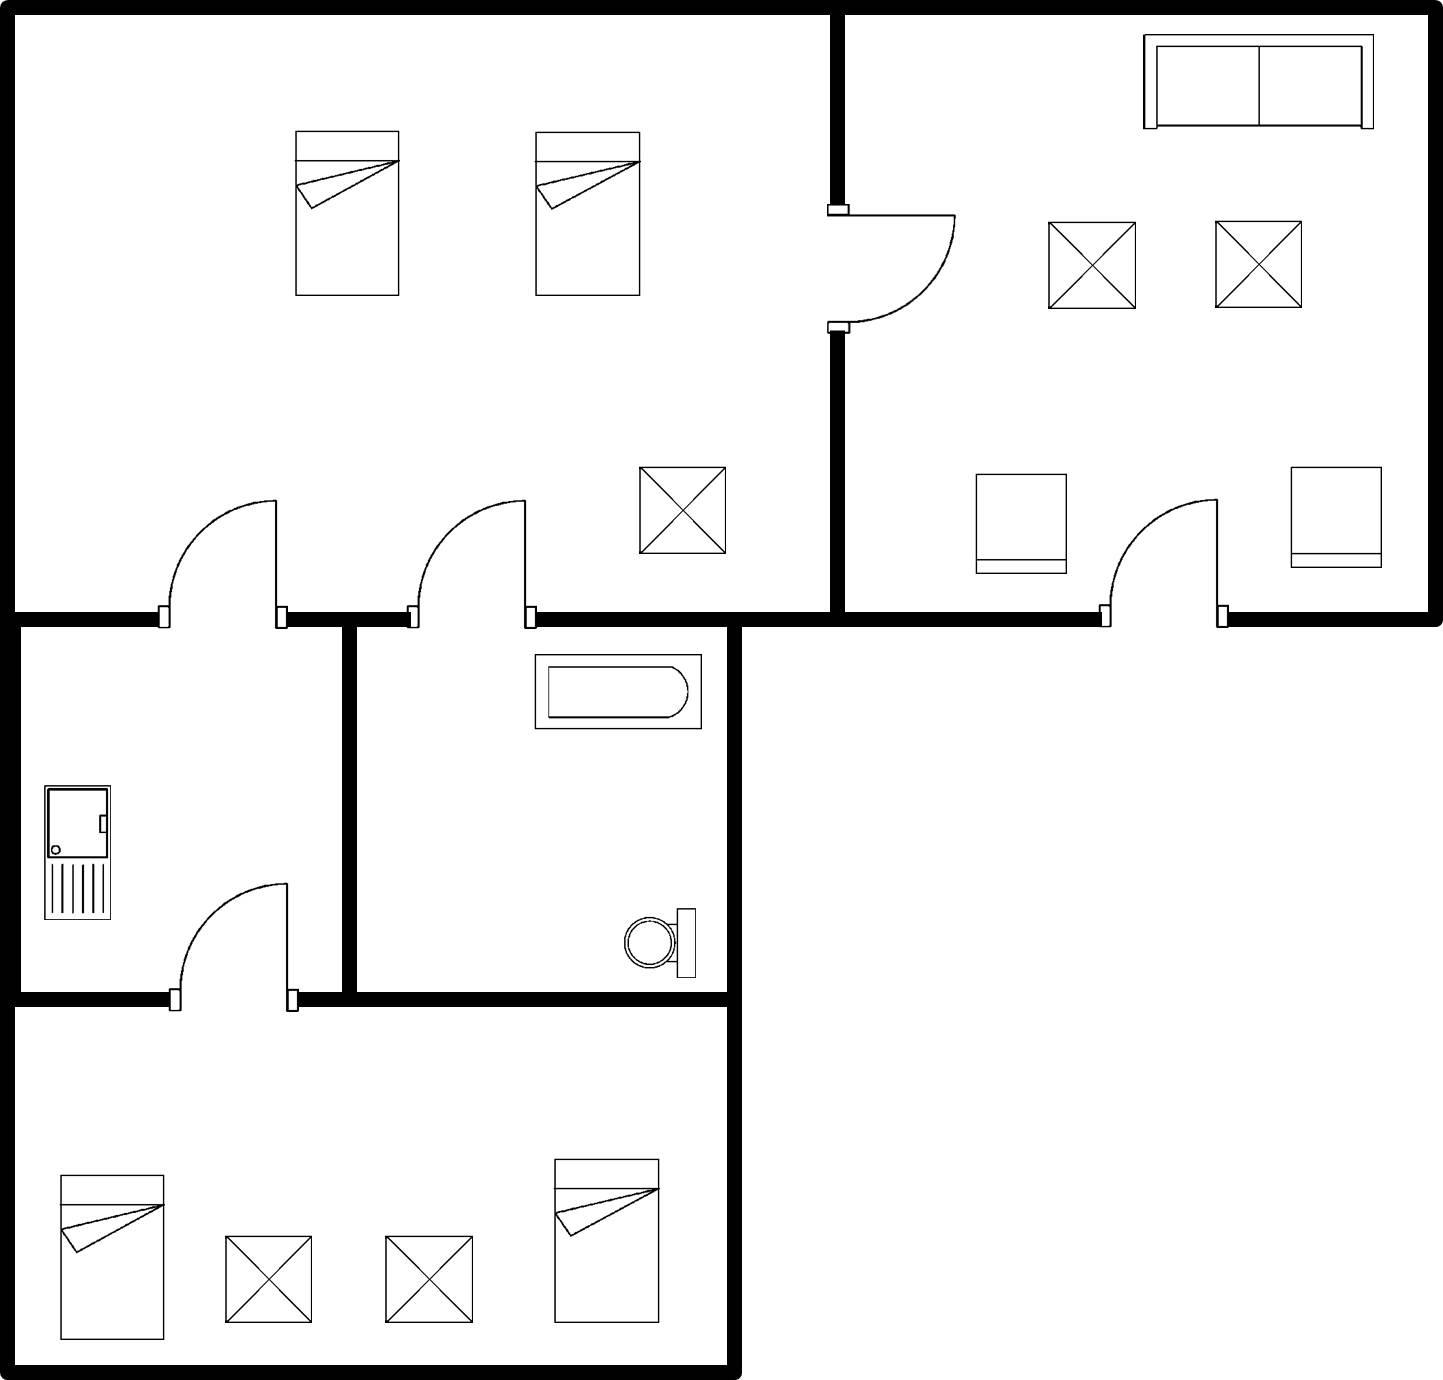bed: (43, 1164, 177, 1346), (541, 1145, 667, 1337), (281, 121, 410, 309), (523, 121, 651, 311)
sink: (33, 771, 122, 930)
sofa: (1129, 23, 1381, 146)
toilet: (604, 894, 703, 984)
tub: (521, 642, 712, 741)
